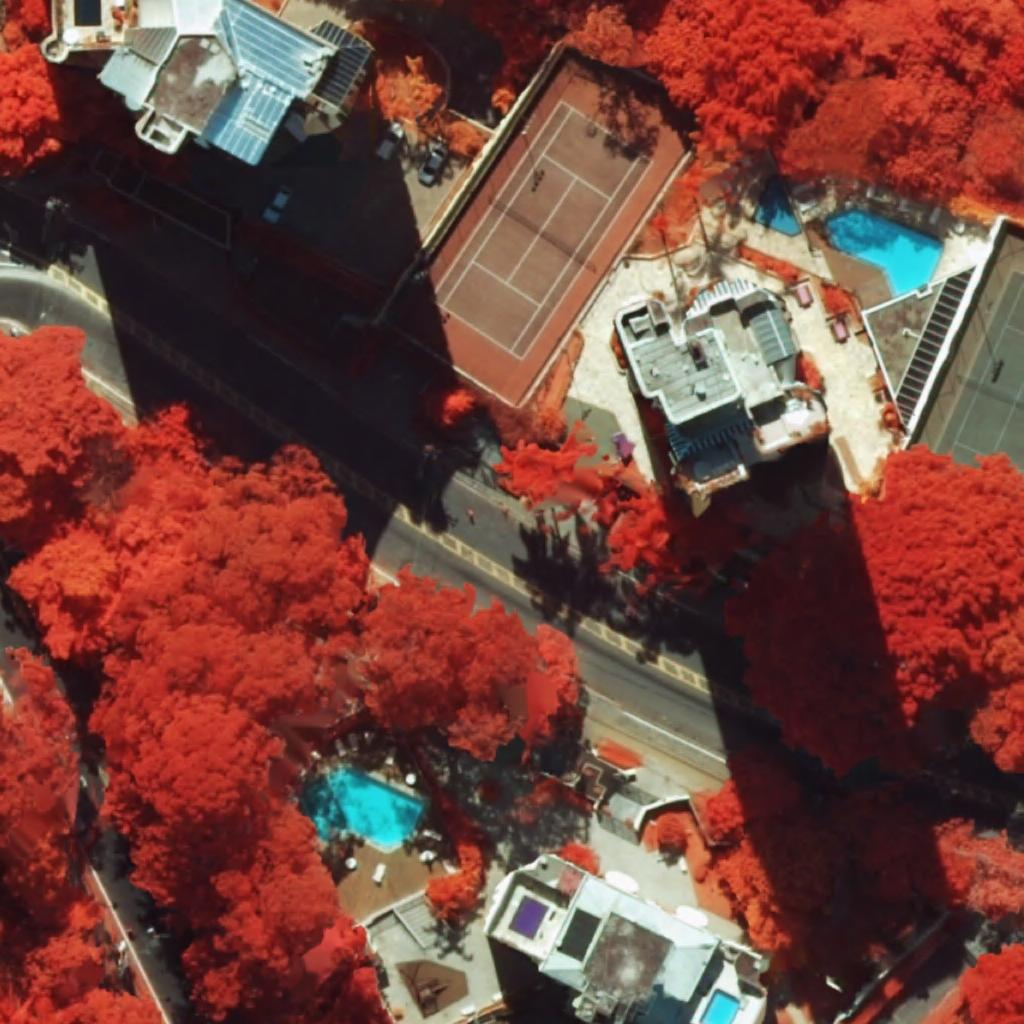pool: (825, 209, 944, 297), (304, 768, 424, 849), (755, 181, 801, 235), (508, 896, 550, 941), (699, 989, 741, 1024), (74, 0, 102, 27)
